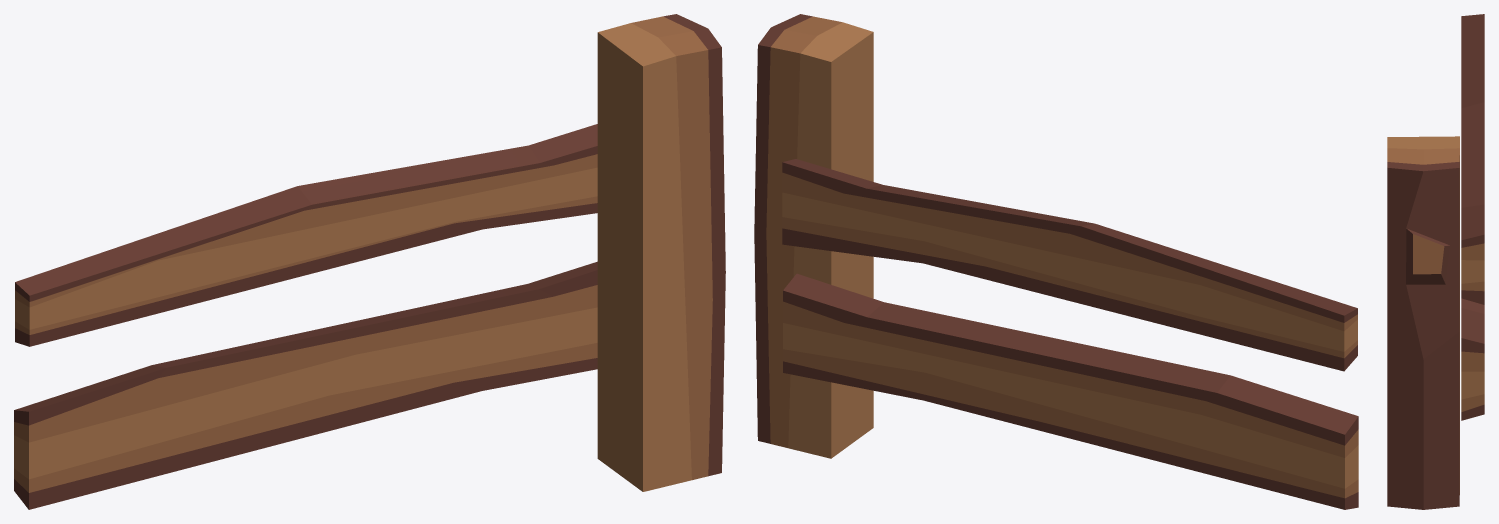
The model's file is fence_plank_half_2.fbx.
3 renders of one model, left to right at view 1: azimuth 30°, elevation 25°; view 2: azimuth 150°, elevation 25°; view 3: azimuth 270°, elevation 25°, orthographic. The views are drawn at different scales.
Visible parts, largest first — view 1: fence_plank_half_2; view 2: fence_plank_half_2; view 3: fence_plank_half_2.
Part boxes in pixels (left/top/right/bottom): fence_plank_half_2: left=14, top=14, right=725, bottom=509; fence_plank_half_2: left=754, top=14, right=1358, bottom=509; fence_plank_half_2: left=1387, top=14, right=1484, bottom=509.
Size of the model in its own units: 112 by 69.46 by 17.97.
